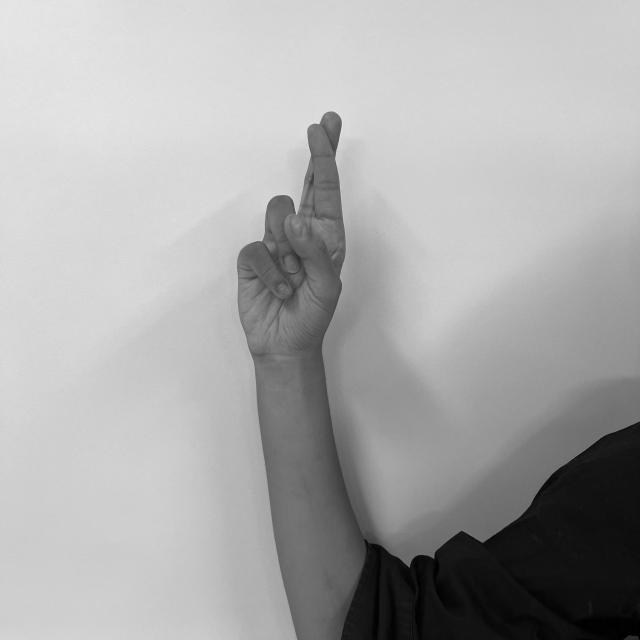Letra R: (232, 107, 351, 358)
